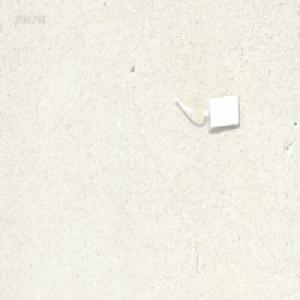LuggageTag: (169, 88, 241, 131)
